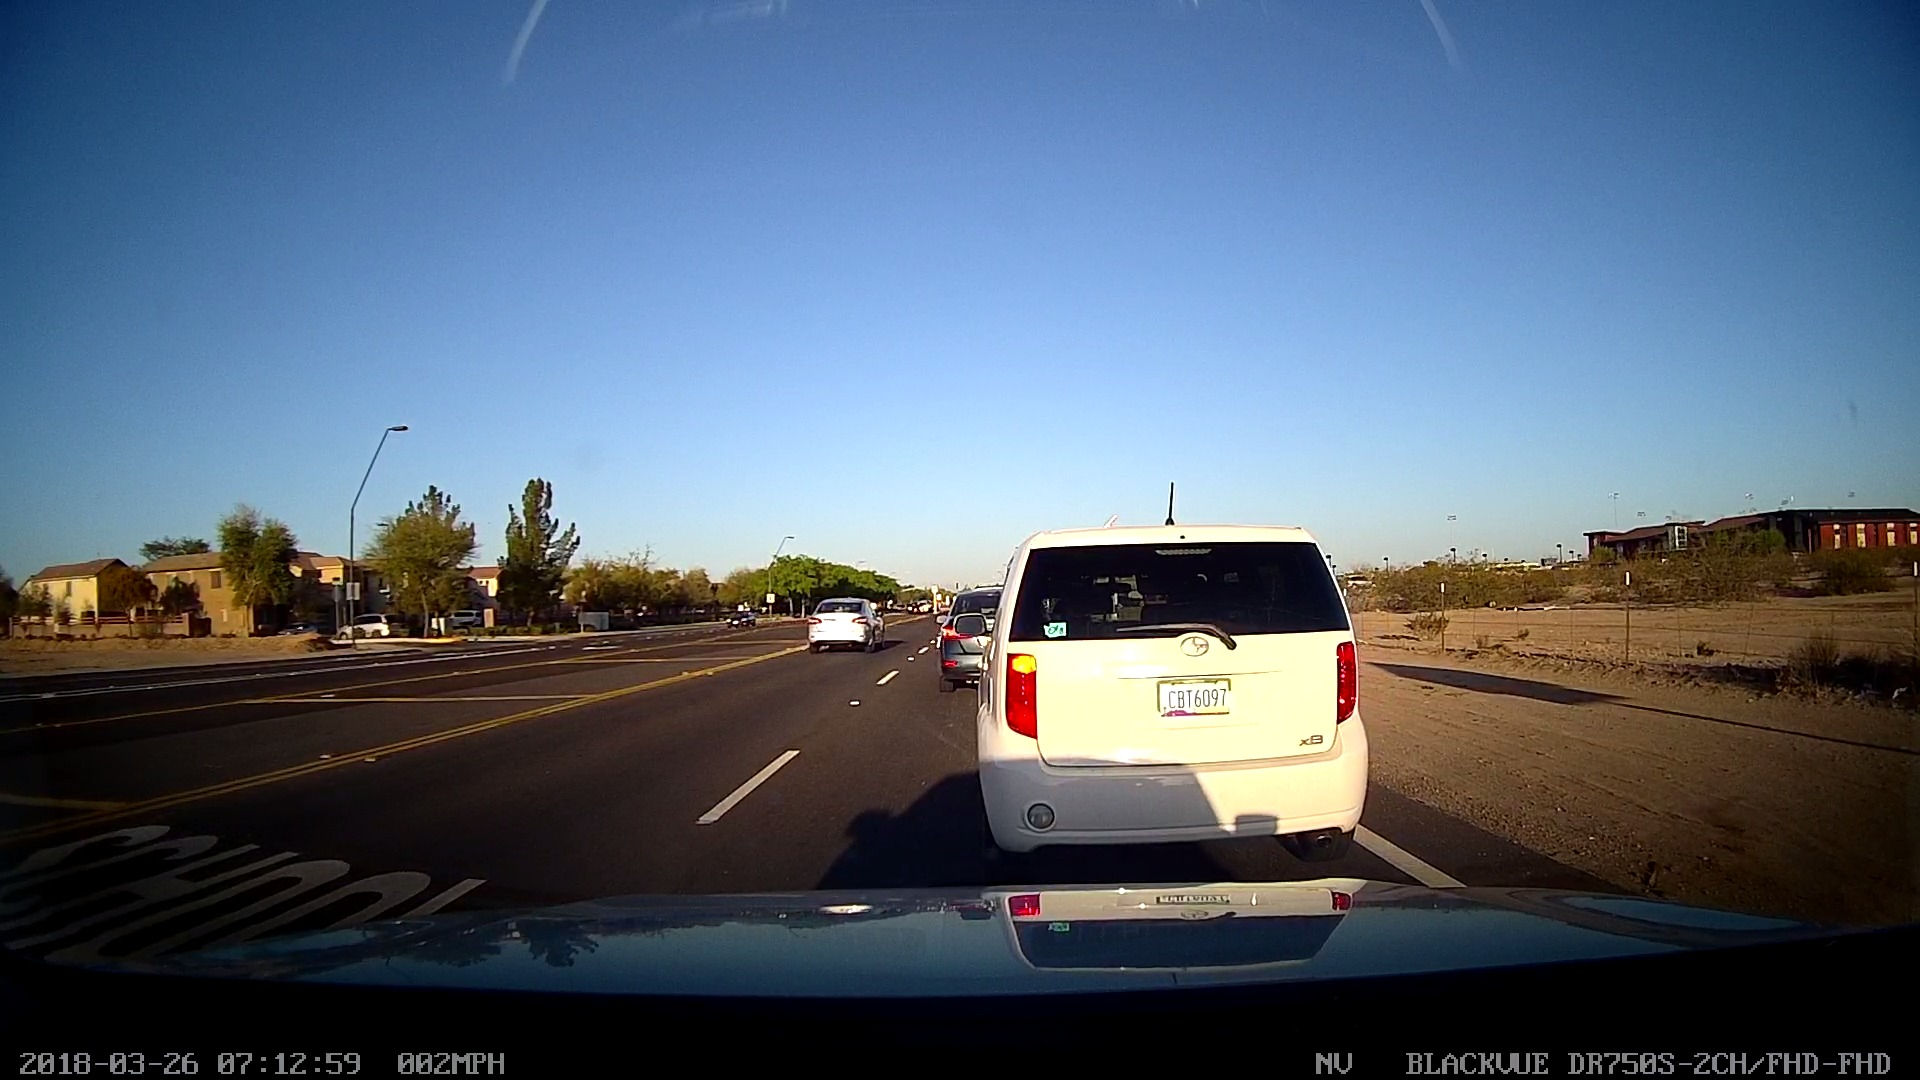plate: (1148, 661, 1242, 724)
vehicle: (965, 515, 1374, 870), (933, 576, 1006, 695), (796, 588, 894, 657), (323, 602, 403, 642), (718, 600, 753, 630)
